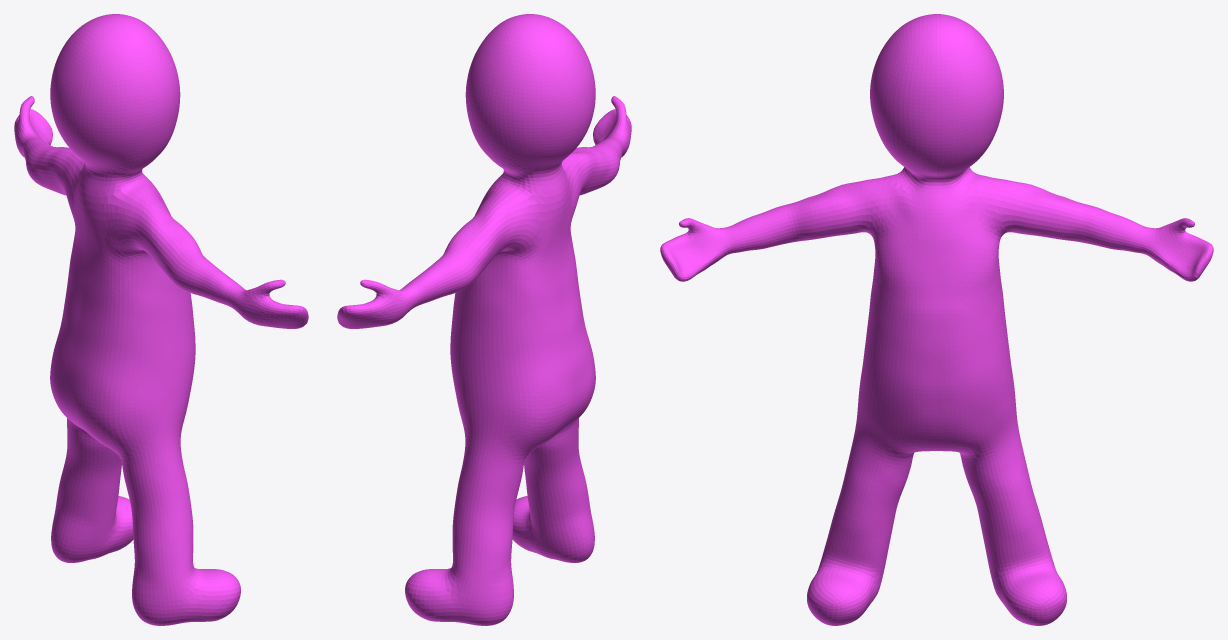
The model's file is character_pose2_edited.obj.
3 renders of one model, left to right at view 1: azimuth 30°, elevation 25°; view 2: azimuth 150°, elevation 25°; view 3: azimuth 270°, elevation 25°, orthographic.
Visible parts, largest first — view 1: StaticMeshActor_1; view 2: StaticMeshActor_1; view 3: StaticMeshActor_1.
Part boxes in pixels (<box>): StaticMeshActor_1: <box>14,14,308,625</box>; StaticMeshActor_1: <box>337,14,631,625</box>; StaticMeshActor_1: <box>660,14,1213,625</box>.
Bounding box in the file's own units: 0.7166 × 3.04 × 2.62.
